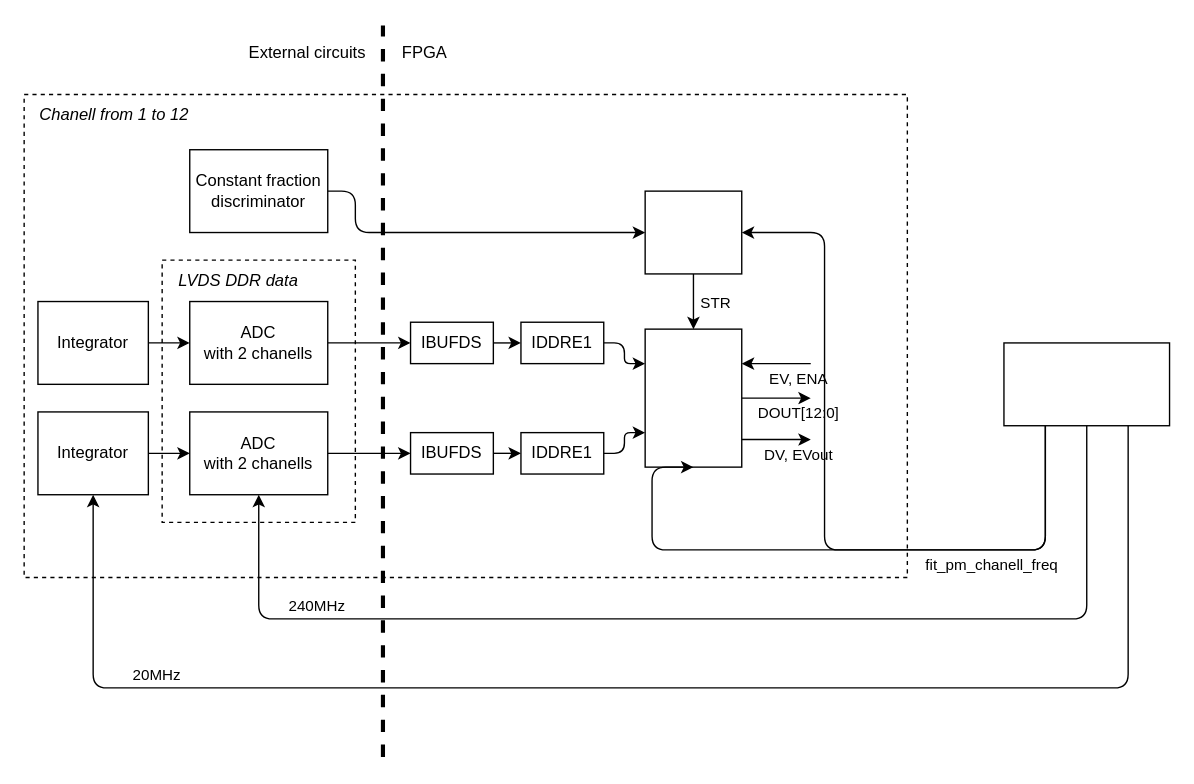
The diagram is 1194 pixels wide and 784 high, and some of its shapes have lost their labels. The centre of each missing label's shape, as x and y in pixels:
fit_pm chanell logic: pixel 693 397
MMCM: pixel 1086 384
Time gate circuit: pixel 693 232
